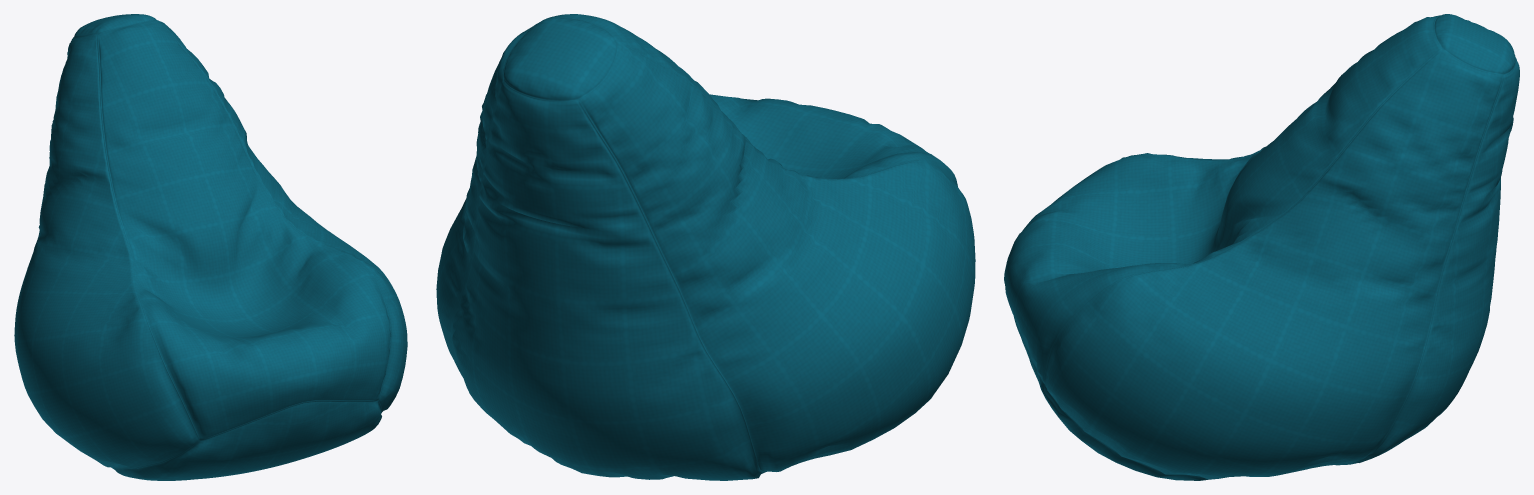
3 views of the same model, side by side, from view 1: azimuth 30°, elevation 25°; view 2: azimuth 150°, elevation 25°; view 3: azimuth 270°, elevation 25° (orthographic). The views are drawn at different scales.
Visible parts, largest first — view 1: Bean_Bag_Chair; view 2: Bean_Bag_Chair; view 3: Bean_Bag_Chair.
Boxes of the visible parts, box(x1,y1,x2,y2) form: Bean_Bag_Chair: box(14, 14, 407, 480); Bean_Bag_Chair: box(436, 14, 975, 480); Bean_Bag_Chair: box(1004, 14, 1519, 480).
Size of the model in its own units: 0.0741 by 0.0729 by 0.0854.
Materials: 1 (1 with a texture image).
